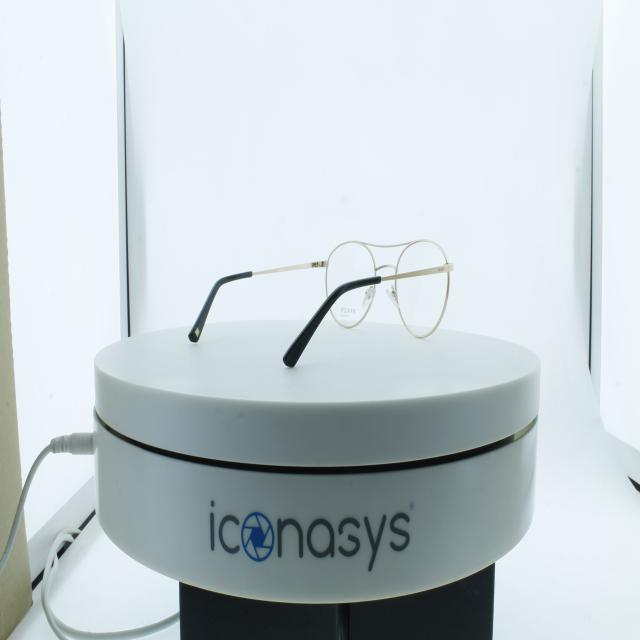Specs: (178, 225, 464, 373)
